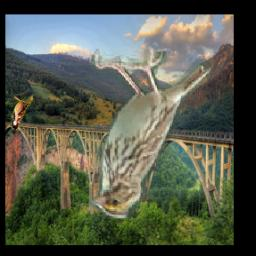Sparrow: (90, 50, 212, 220), (10, 96, 33, 130)
